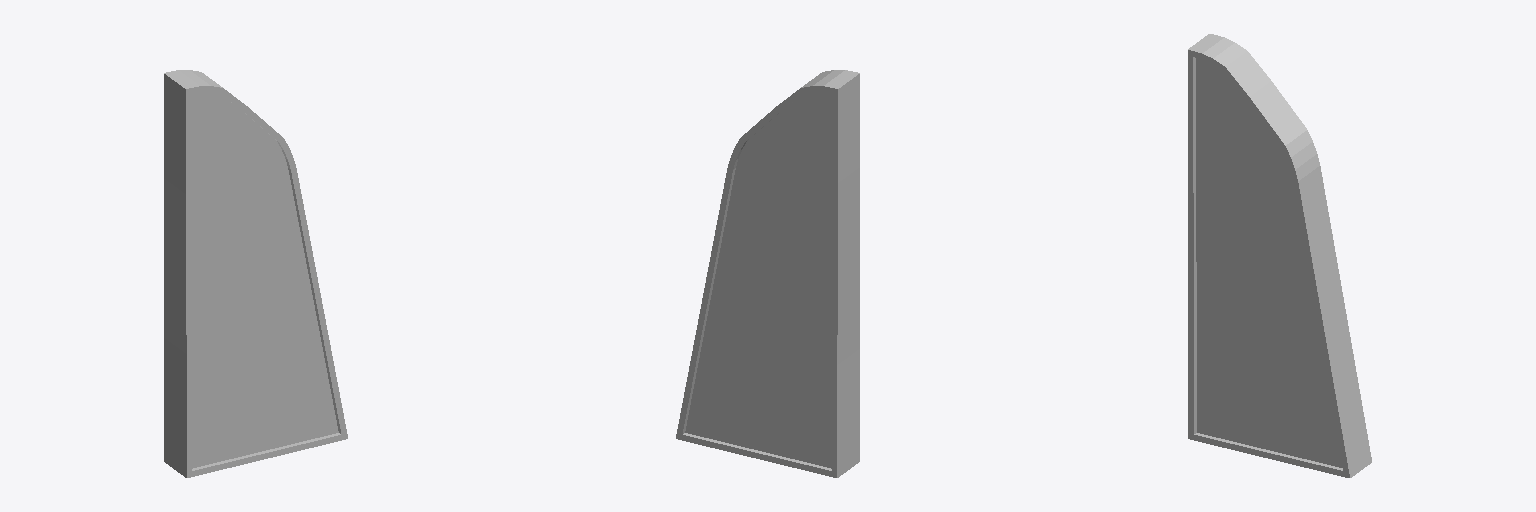
The model's file is door.obj.
The picture shows the model from 3 angles: view 1: azimuth 30°, elevation 25°; view 2: azimuth 150°, elevation 25°; view 3: azimuth 330°, elevation 25°; orthographic projection.
Visible parts, largest first — view 1: DOOR; view 2: DOOR; view 3: DOOR.
Part boxes in pixels (left/top/right/bottom): DOOR: left=164, top=70, right=347, bottom=477; DOOR: left=676, top=70, right=859, bottom=477; DOOR: left=1188, top=34, right=1371, bottom=477.
Bounding box in the file's own units: 1.43 × 3.28 × 0.3381.